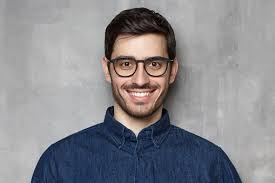Glasses: (103, 51, 176, 79)
